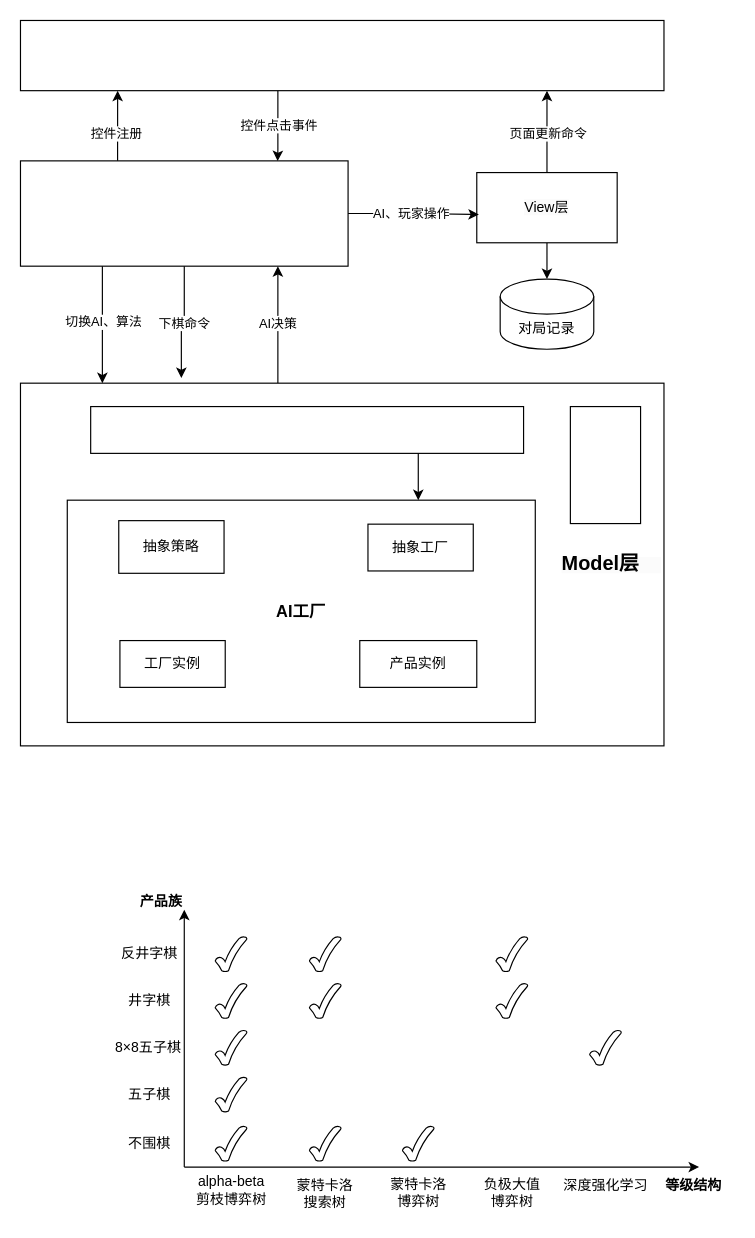
This 755x1238 diagram has some shape labels left out. The centre of each missing label's shape, as x and y in pixels:
"BoardInfo" goes at point 605,464.
"Controller层" goes at point 183,213.
"GameManger" goes at point 307,429.
"用户界面" goes at point 341,55.
